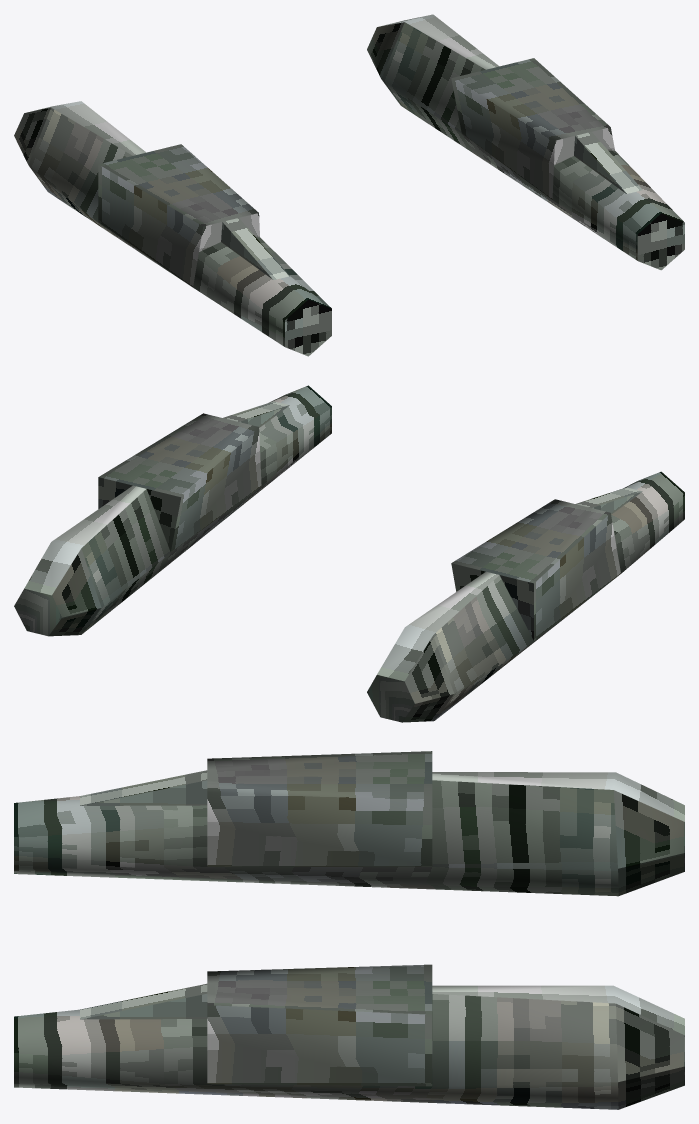
File: black_sun_fighter_light_engine_s02_l3.fbx
3 renders of one model, top to bottom at view 1: azimuth 30°, elevation 25°; view 2: azimuth 150°, elevation 25°; view 3: azimuth 270°, elevation 25°, orthographic. The views are drawn at different scales.
Visible parts, largest first — view 1: mesh_node; view 2: mesh_node; view 3: mesh_node.
Boxes of the visible parts, x1,y1,x2,y2 form: mesh_node: [14, 14, 684, 356]; mesh_node: [14, 385, 684, 722]; mesh_node: [14, 751, 684, 1109].
Bounding box in the file's own units: 9.92 × 1.95 × 10.68.
1 material, 1 textured.
